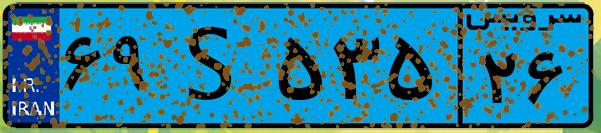2: (475, 38, 525, 113)
3: (330, 28, 385, 110)
5: (270, 28, 330, 110), (385, 28, 445, 110)
6: (57, 26, 110, 100), (525, 38, 570, 115)
9: (110, 28, 158, 98)
S: (158, 12, 270, 120)
